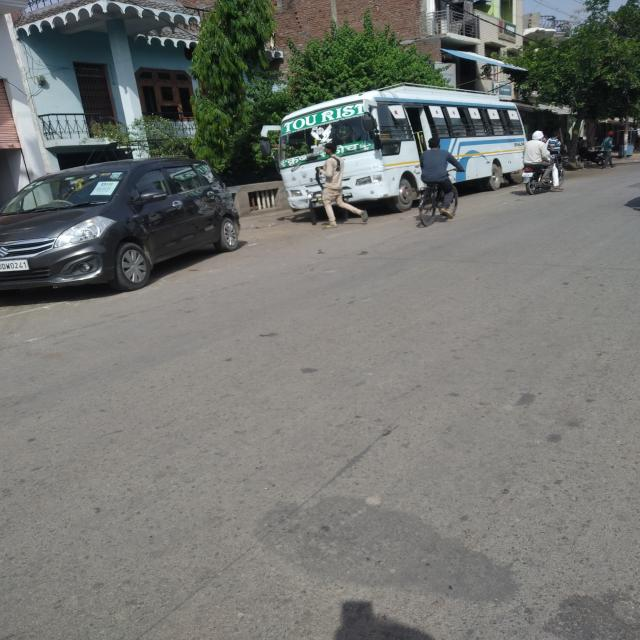Car: (0, 159, 238, 290)
Traveller: (277, 84, 525, 210)
Two Wheeler: (522, 166, 550, 195), (560, 170, 563, 182)
